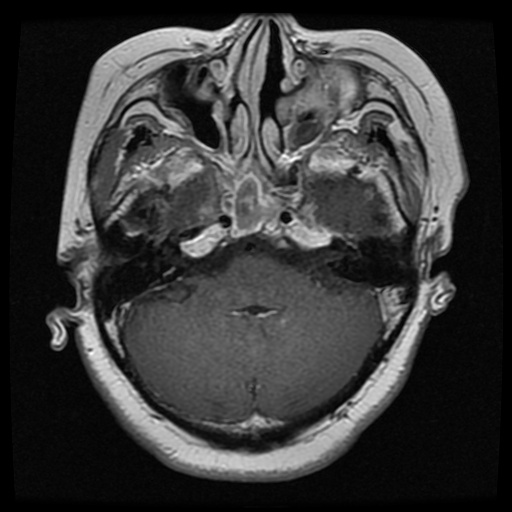pituitary: (232, 173, 263, 234)
